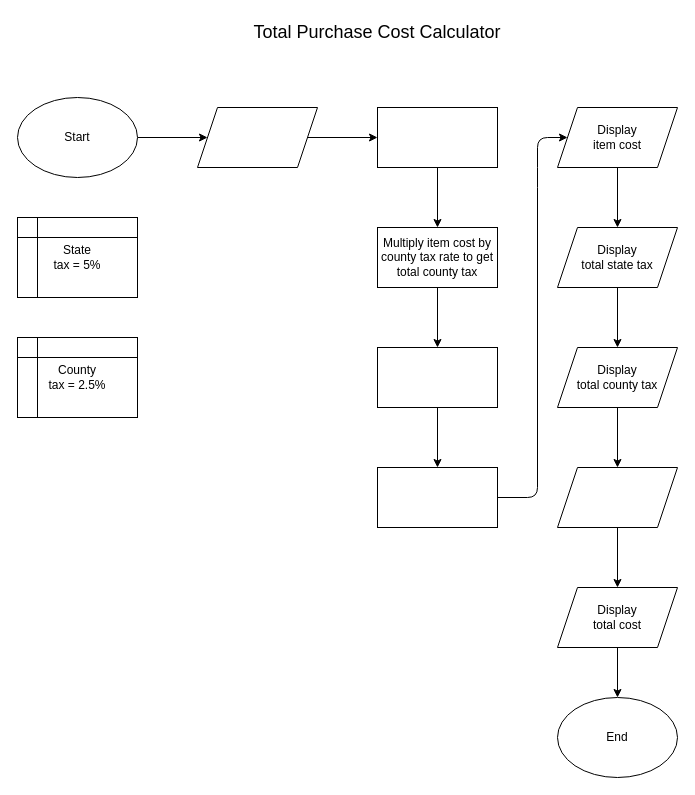
Some shapes in this 695 by 795 pixel diagram are drawn without their labels. Each missing label, with the centre of its shape:
Add item cost to total sales tax to get total purchase cost: the point at 437,497
Add total state tax to total county state tax to get total sales tax: the point at 437,377
Display total sales tax: the point at 617,497
Input item cost: the point at 257,137
Multiply item cost by state tax rate to get total state tax: the point at 437,137
